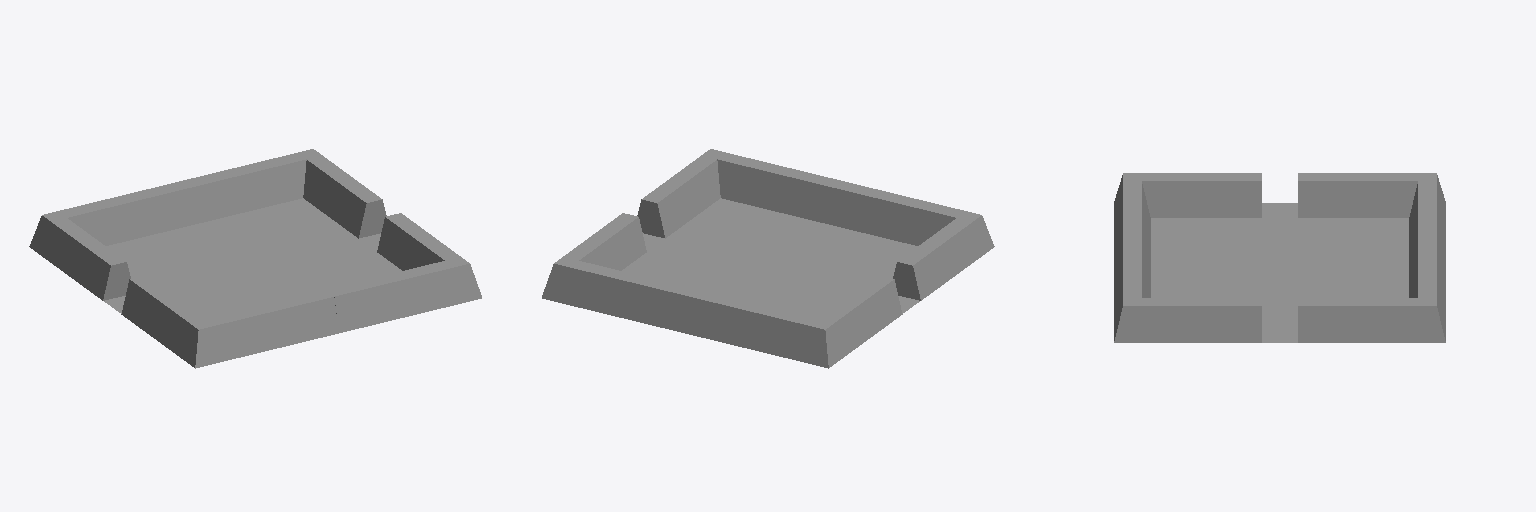
The model's file is sala_10.obj.
3 views of the same model, side by side, from view 1: azimuth 30°, elevation 25°; view 2: azimuth 150°, elevation 25°; view 3: azimuth 270°, elevation 25° (orthographic).
Visible parts, largest first — view 1: Ground_Plane, Wall.003_Cube.010, Wall.001_Cube.012, Wall.004_Cube.015, Wall.006_Cube.016, Wall.007_Cube.017, Wall.005_Cube.002, Wall.000_Cube.011, Wall.002_Cube.014; view 2: Ground_Plane, Wall.006_Cube.016, Wall.004_Cube.015, Wall.003_Cube.010, Wall.001_Cube.012, Wall.000_Cube.011, Wall.002_Cube.014, Wall.007_Cube.017, Wall.005_Cube.002; view 3: Ground_Plane, Wall.005_Cube.002, Wall.002_Cube.014, Wall.000_Cube.011, Wall.007_Cube.017, Wall.001_Cube.012, Wall.006_Cube.016, Wall.003_Cube.010, Wall.004_Cube.015.
Part boxes in pixels (left/top/right/bottom): Ground_Plane: left=104, top=198, right=401, bottom=318; Wall.003_Cube.010: left=326, top=261, right=481, bottom=332; Wall.001_Cube.012: left=195, top=290, right=338, bottom=368; Wall.004_Cube.015: left=178, top=149, right=312, bottom=224; Wall.006_Cube.016: left=44, top=182, right=190, bottom=245; Wall.007_Cube.017: left=29, top=215, right=130, bottom=300; Wall.005_Cube.002: left=303, top=149, right=386, bottom=238; Wall.000_Cube.011: left=121, top=275, right=204, bottom=367; Wall.002_Cube.014: left=377, top=213, right=468, bottom=270; Ground_Plane: left=622, top=198, right=919, bottom=318; Wall.006_Cube.016: left=685, top=290, right=828, bottom=368; Wall.004_Cube.015: left=542, top=261, right=697, bottom=332; Wall.003_Cube.010: left=711, top=149, right=845, bottom=224; Wall.001_Cube.012: left=833, top=182, right=979, bottom=245; Wall.000_Cube.011: left=893, top=215, right=994, bottom=300; Wall.002_Cube.014: left=637, top=149, right=720, bottom=238; Wall.007_Cube.017: left=819, top=275, right=902, bottom=367; Wall.005_Cube.002: left=555, top=213, right=646, bottom=270; Ground_Plane: left=1151, top=203, right=1408, bottom=342; Wall.005_Cube.002: left=1298, top=298, right=1445, bottom=342; Wall.002_Cube.014: left=1114, top=298, right=1261, bottom=342; Wall.000_Cube.011: left=1124, top=173, right=1261, bottom=217; Wall.007_Cube.017: left=1298, top=173, right=1435, bottom=217; Wall.001_Cube.012: left=1114, top=173, right=1150, bottom=270; Wall.006_Cube.016: left=1409, top=173, right=1445, bottom=270; Wall.003_Cube.010: left=1114, top=239, right=1150, bottom=340; Wall.004_Cube.015: left=1409, top=239, right=1445, bottom=340.
Bounding box in the file's own units: 18 × 2 × 18.